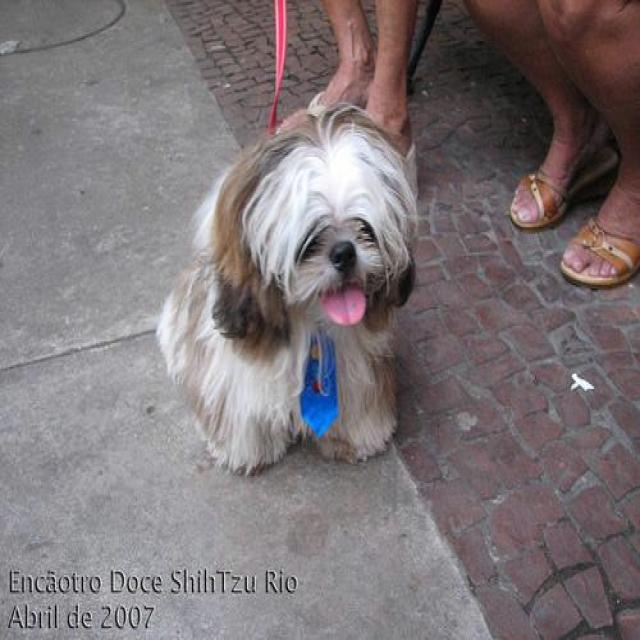shih_tzu: (154, 111, 422, 478)
